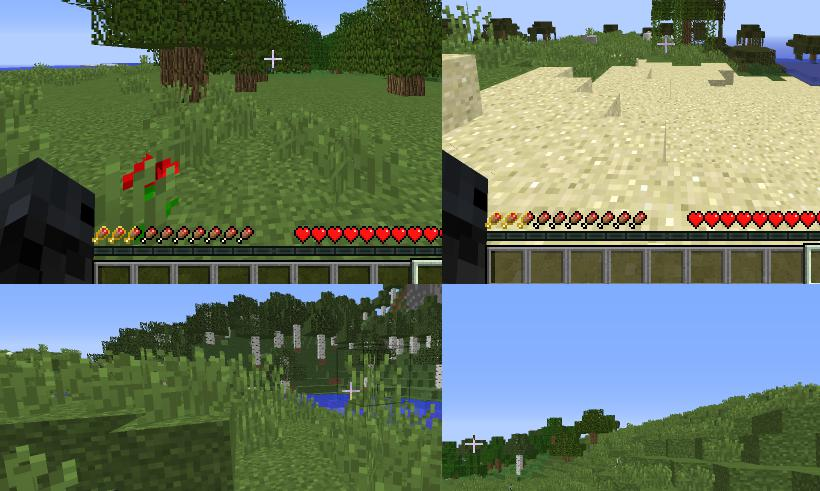minecraft-blocks: (176, 48, 210, 104), (387, 76, 426, 98), (161, 50, 177, 90), (236, 72, 258, 92), (253, 338, 261, 370), (683, 21, 692, 46), (319, 335, 327, 360), (295, 326, 302, 349), (276, 332, 285, 349), (436, 365, 442, 390), (517, 456, 524, 476), (398, 338, 405, 357), (258, 74, 270, 84), (412, 339, 419, 355), (207, 333, 215, 346), (591, 433, 599, 446), (427, 336, 434, 350), (391, 338, 398, 352), (497, 460, 503, 474), (488, 464, 494, 473), (553, 436, 558, 446), (565, 456, 570, 464)
